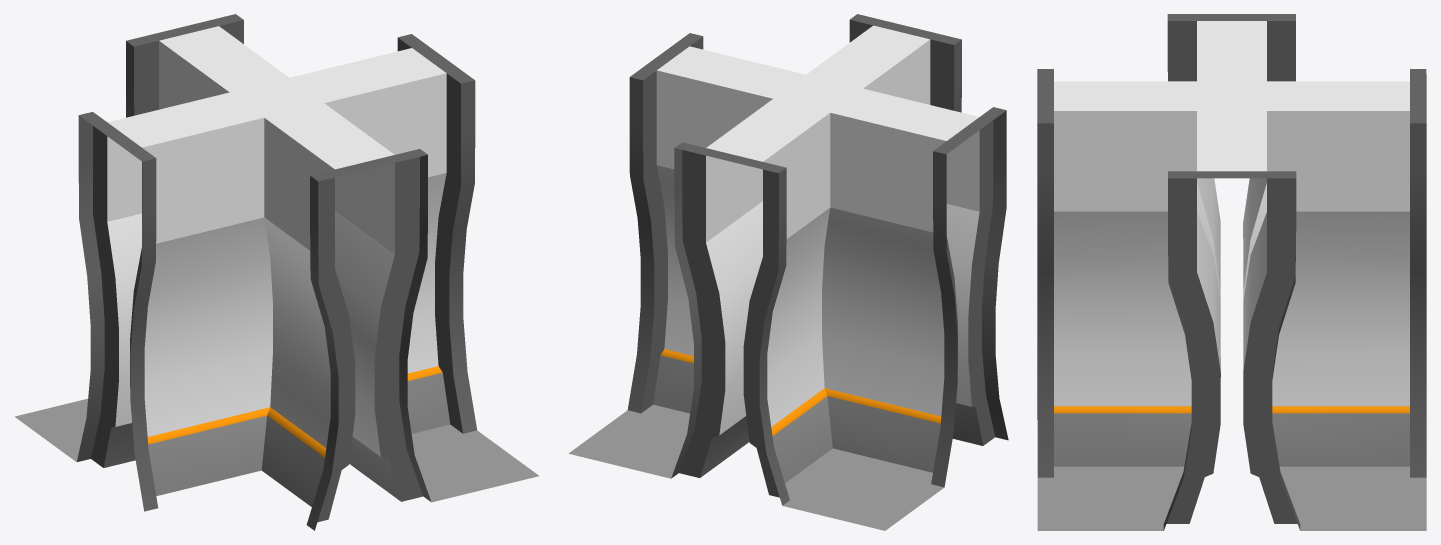
The model's file is SM_InteriorWall_X_02.fbx.
3 renders of one model, left to right at view 1: azimuth 30°, elevation 25°; view 2: azimuth 150°, elevation 25°; view 3: azimuth 270°, elevation 25°, orthographic. The views are drawn at different scales.
Visible parts, largest first — view 1: SM_InteriorWall_X_02; view 2: SM_InteriorWall_X_02; view 3: SM_InteriorWall_X_02.
Boxes of the visible parts, left/top/right/bottom form: SM_InteriorWall_X_02: left=15, top=14, right=538, bottom=530; SM_InteriorWall_X_02: left=569, top=14, right=1008, bottom=530; SM_InteriorWall_X_02: left=1037, top=14, right=1426, bottom=530.
Bounding box in the file's own units: 200 × 200 × 200.
1 material, 1 textured.
